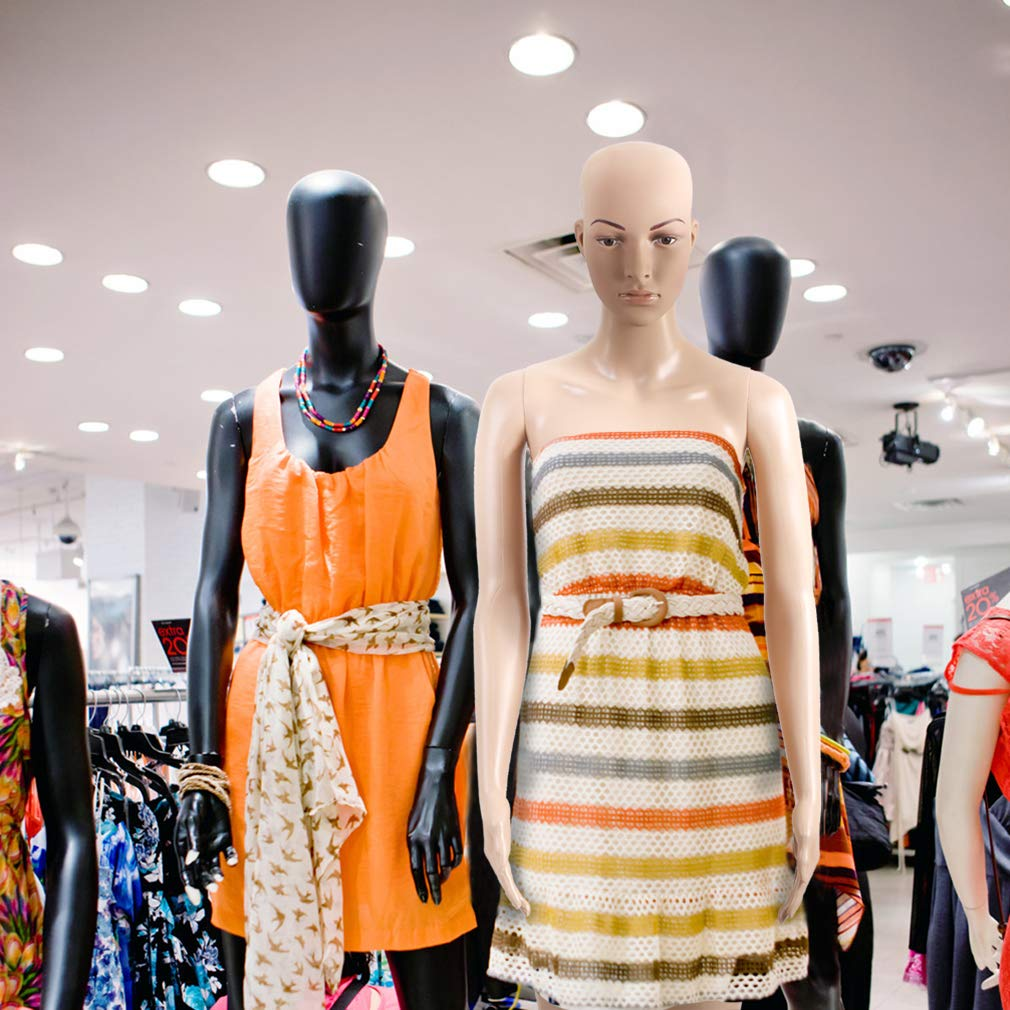person-like: (454, 124, 839, 1010), (166, 155, 492, 1009), (695, 213, 887, 1010)
